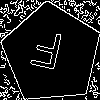F: (26, 28, 65, 80)
